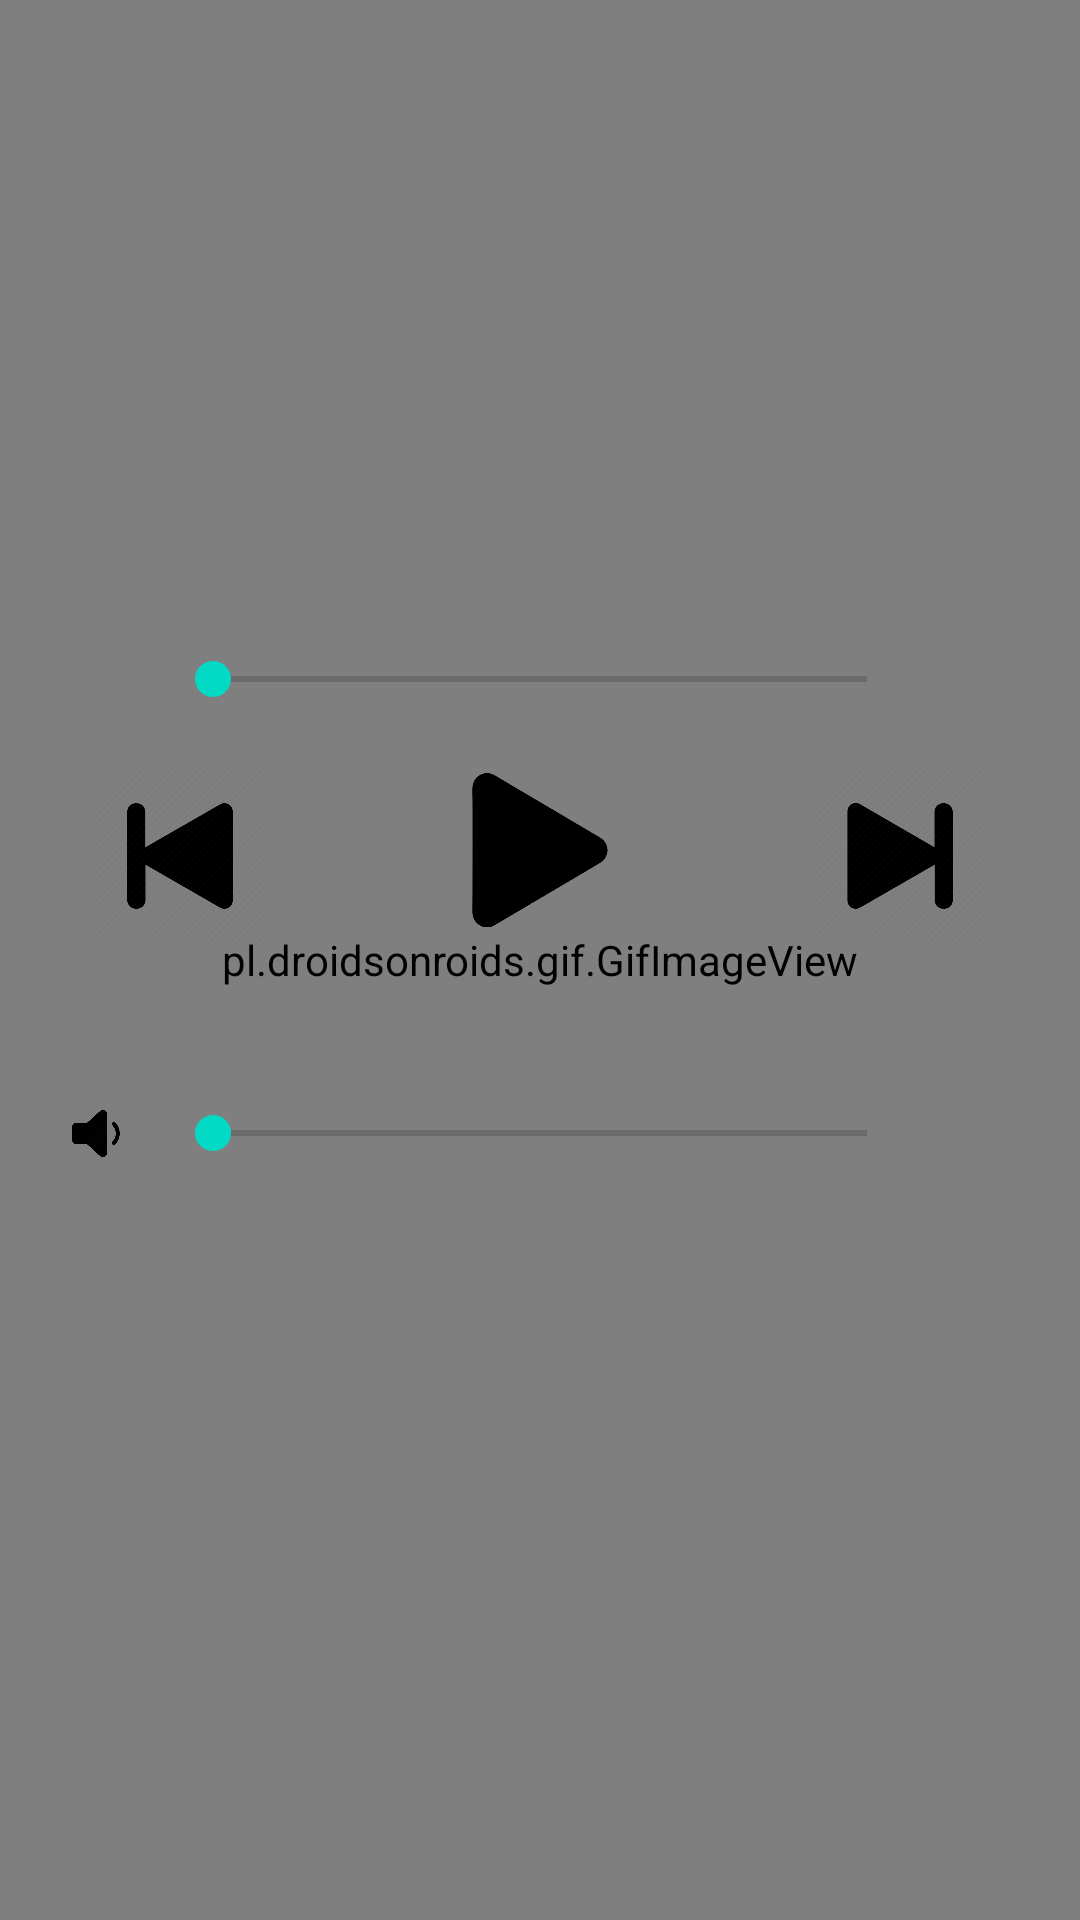

Screen size 1080w x 1920h. Icon name, then its box in pixels as (x1, y1, x2, y2):
nextbutton: (847, 803, 953, 909)
playbuttonv: (472, 773, 608, 927)
previousbutton: (127, 803, 233, 909)
volumedown: (72, 1110, 120, 1157)
